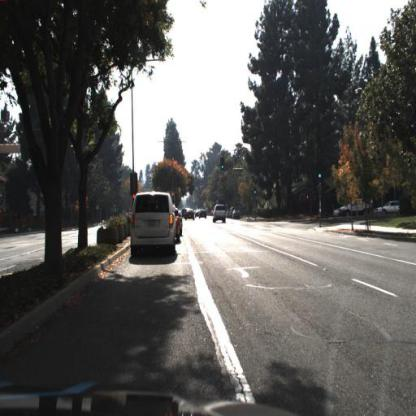car: (129, 192, 177, 257), (332, 196, 374, 221), (375, 198, 406, 221), (334, 202, 372, 219), (212, 200, 230, 226), (176, 202, 185, 244), (376, 201, 406, 213), (196, 206, 211, 223), (185, 207, 197, 224), (199, 209, 209, 224)
trafficLight-Green: (318, 163, 324, 182), (220, 154, 226, 172), (252, 182, 258, 197), (222, 158, 227, 173), (254, 190, 259, 204), (318, 173, 323, 187)
